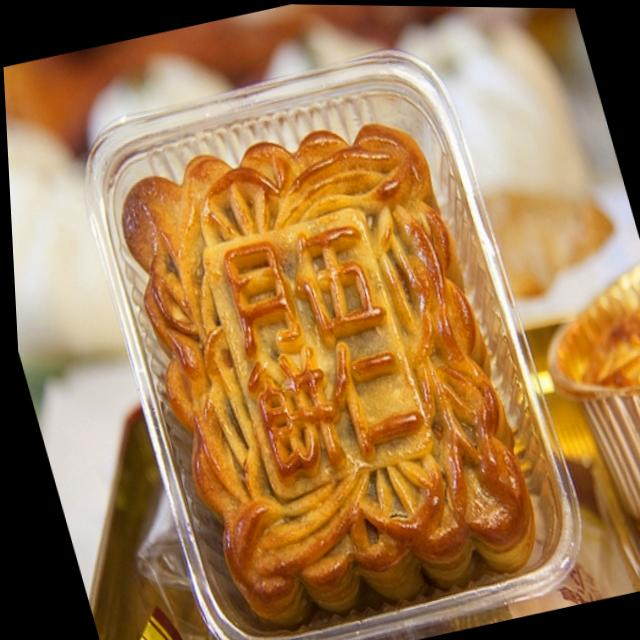蛋糕甜品: (27, 19, 627, 640)
